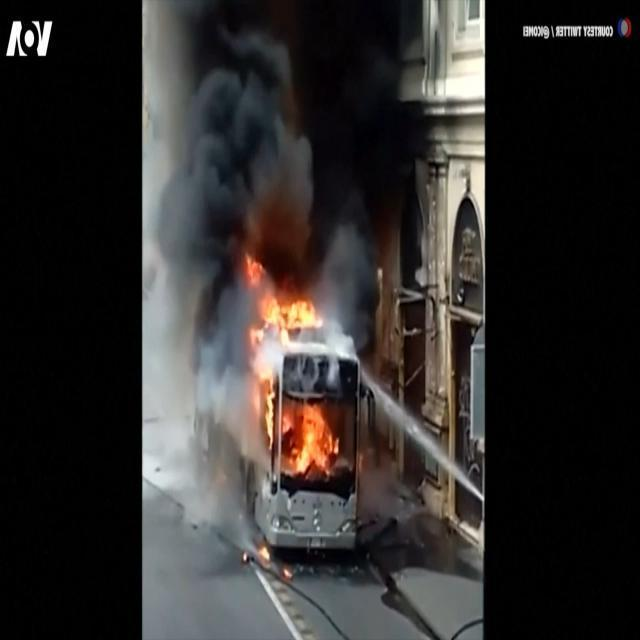fire: (243, 252, 341, 478)
